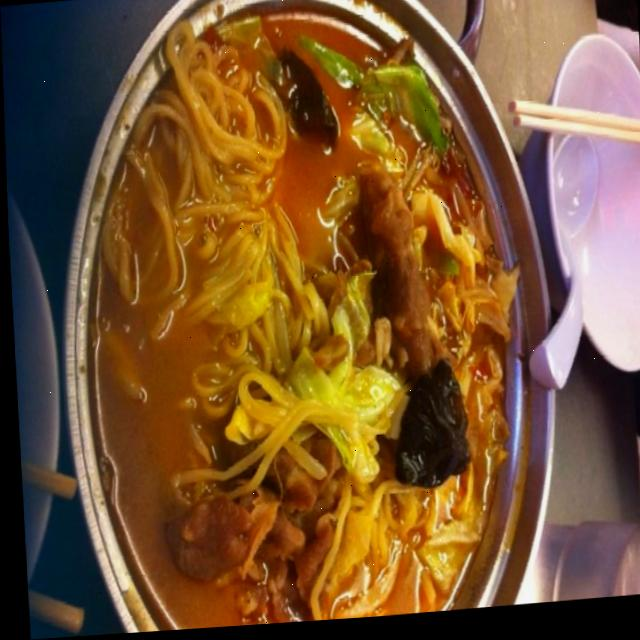汤锅炖物: (39, 0, 601, 638)
